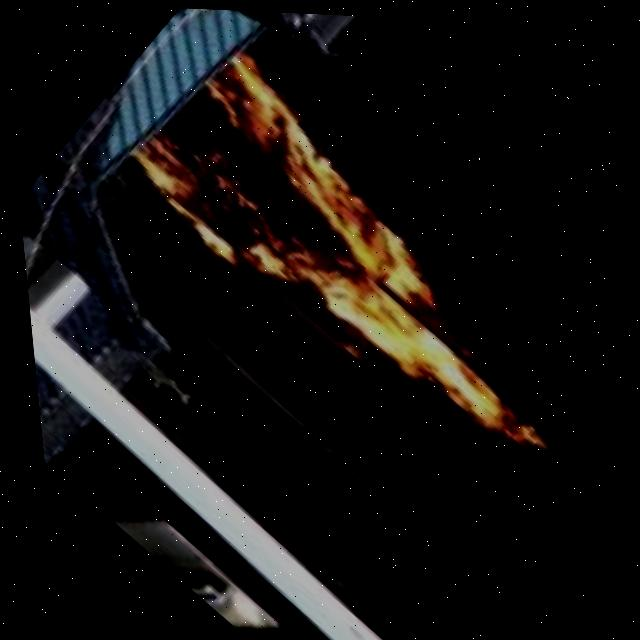Fire: (114, 39, 590, 480)
